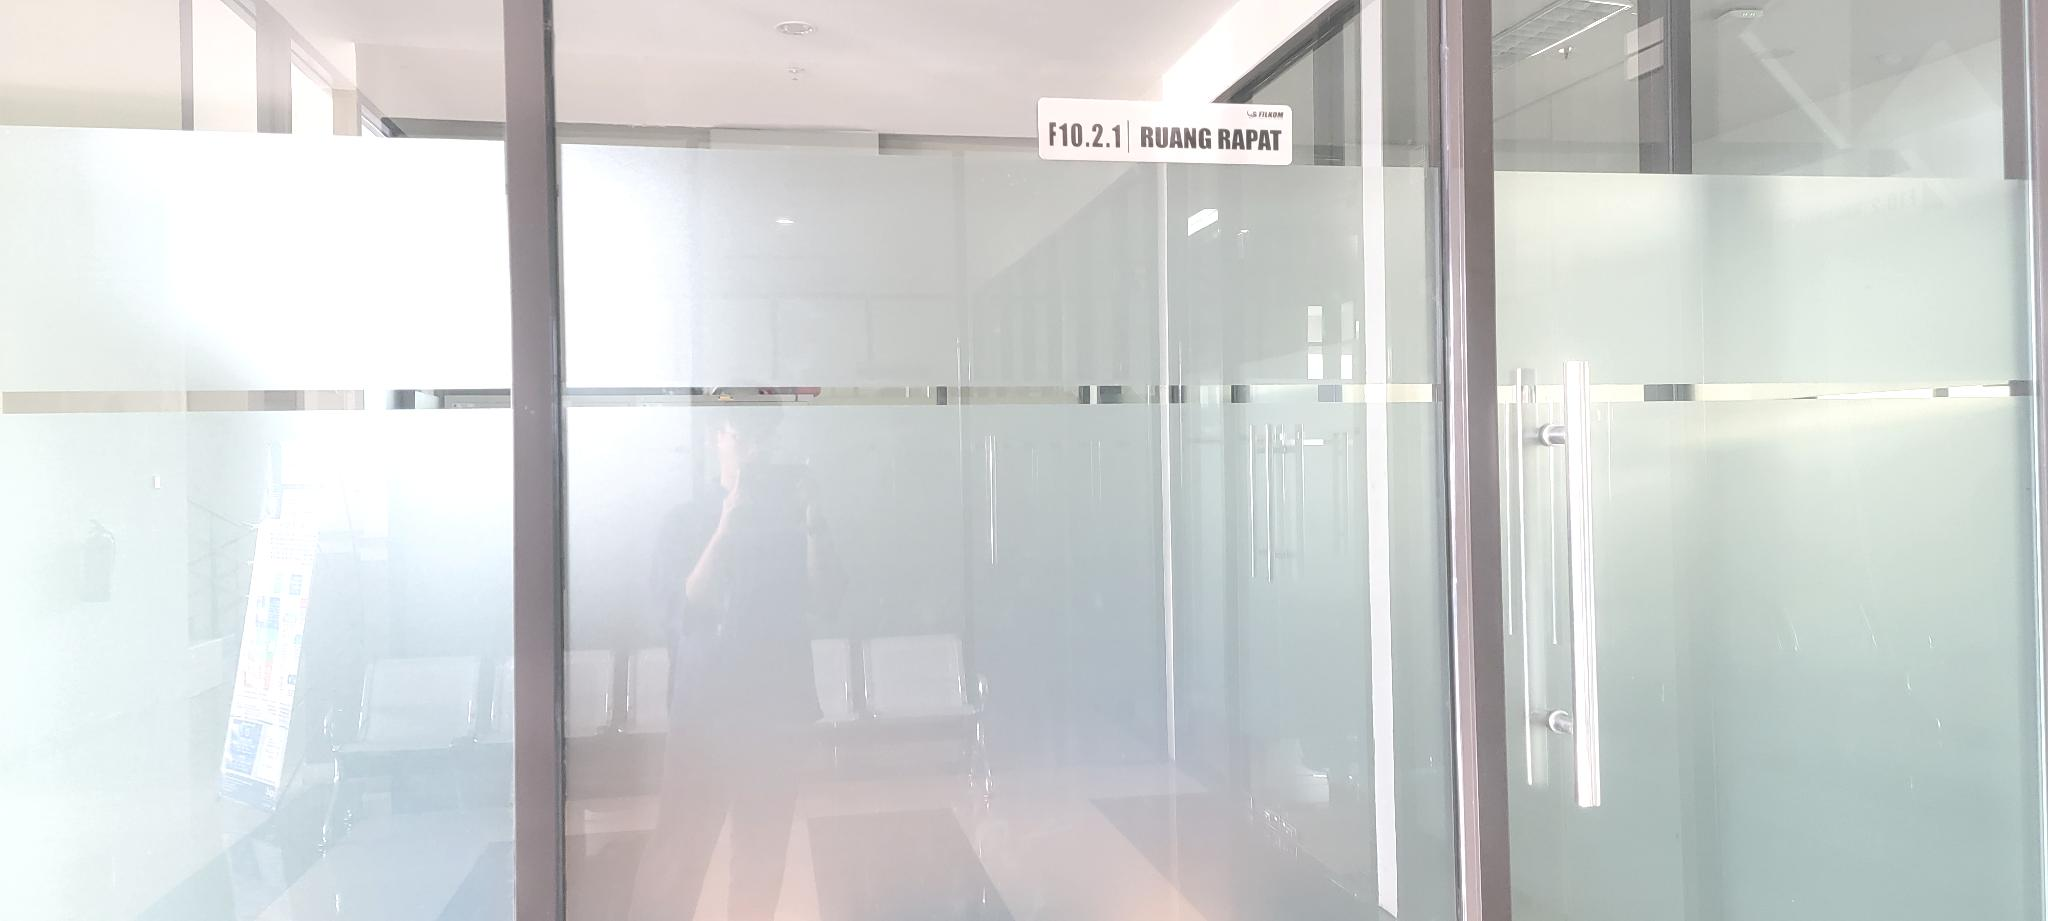plate: (1036, 94, 1293, 167)
